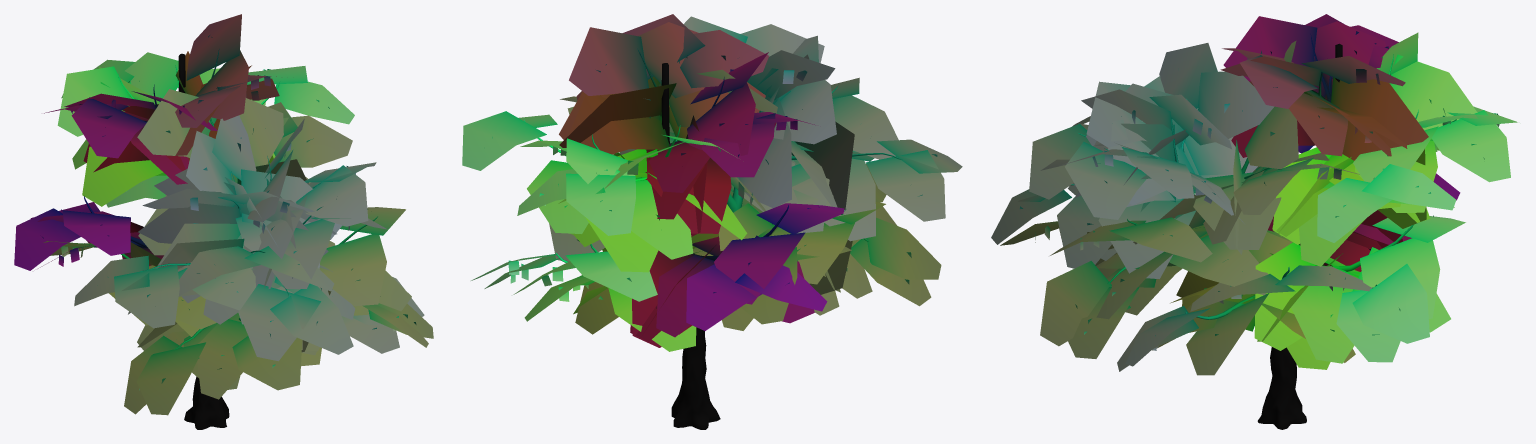
File: Tree_1.fbx
3 views of the same model, side by side, from view 1: azimuth 30°, elevation 25°; view 2: azimuth 150°, elevation 25°; view 3: azimuth 270°, elevation 25° (orthographic). The views are drawn at different scales.
Parts seen in each view (by area): view 1: Tree_1; view 2: Tree_1; view 3: Tree_1.
Part boxes in pixels (<box>): Tree_1: <box>14,14,433,429</box>; Tree_1: <box>462,14,962,429</box>; Tree_1: <box>991,14,1517,429</box>.
Bounding box in the file's own units: 1431 × 1424 × 1724.
